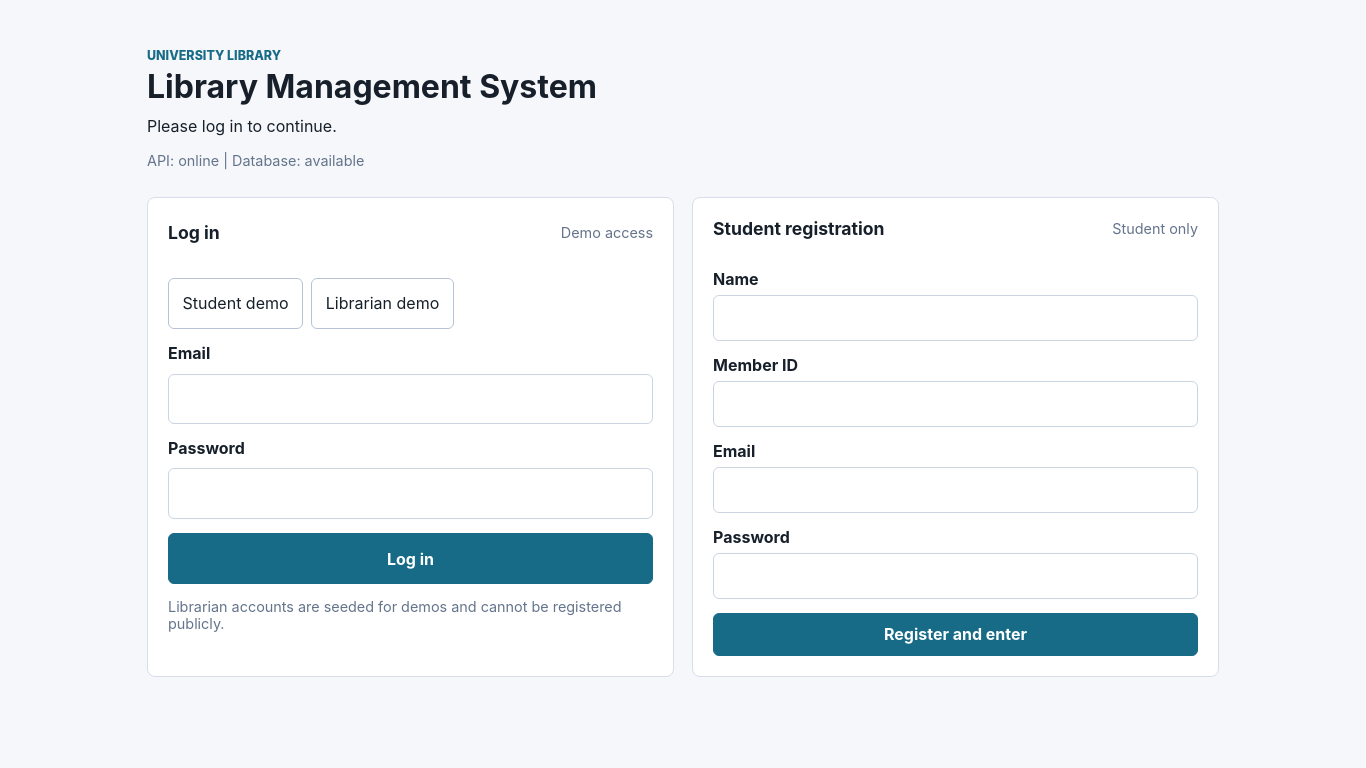
auth flow › quick-fills seeded librarian credentials and shows librarian navigation
Click the button "Librarian demo" at (382, 303), box [311, 278, 454, 329]
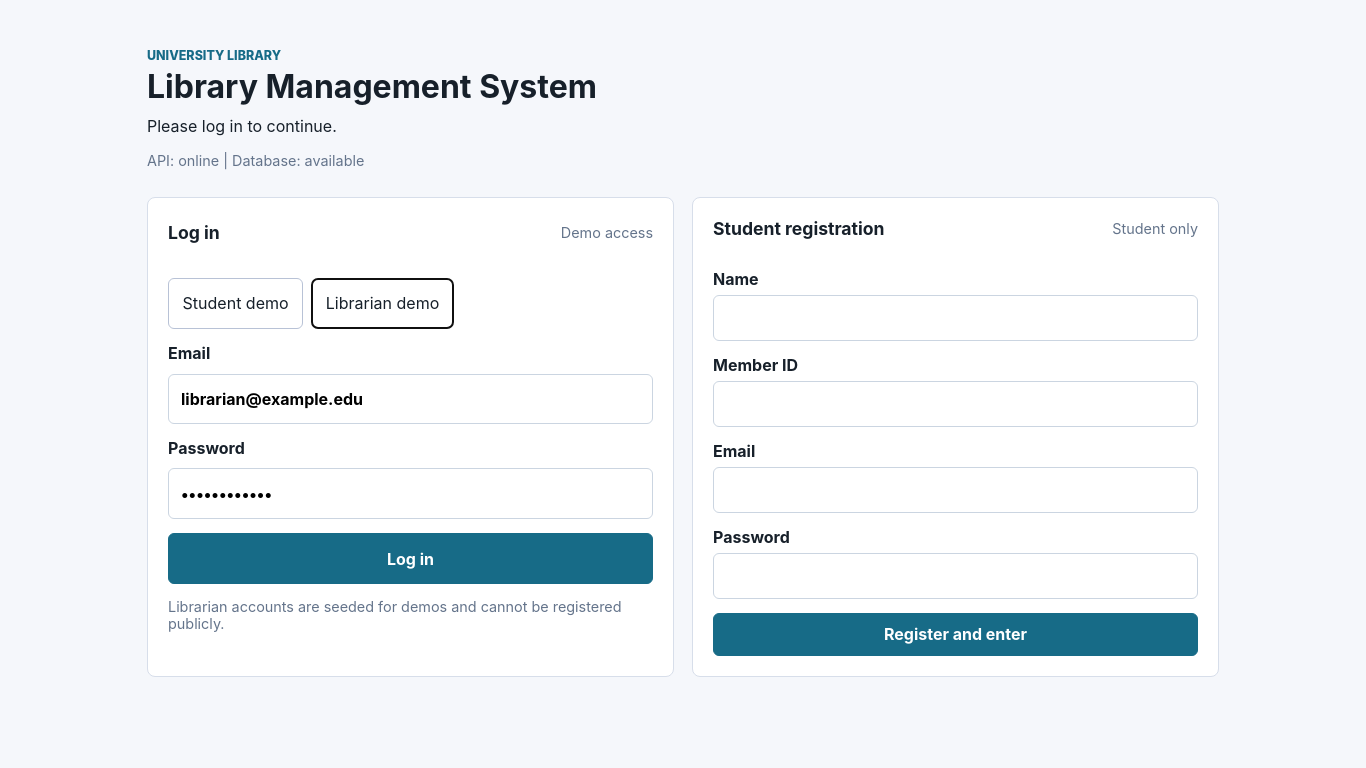
Click the button "Log in" at (410, 559), box [168, 533, 653, 584]
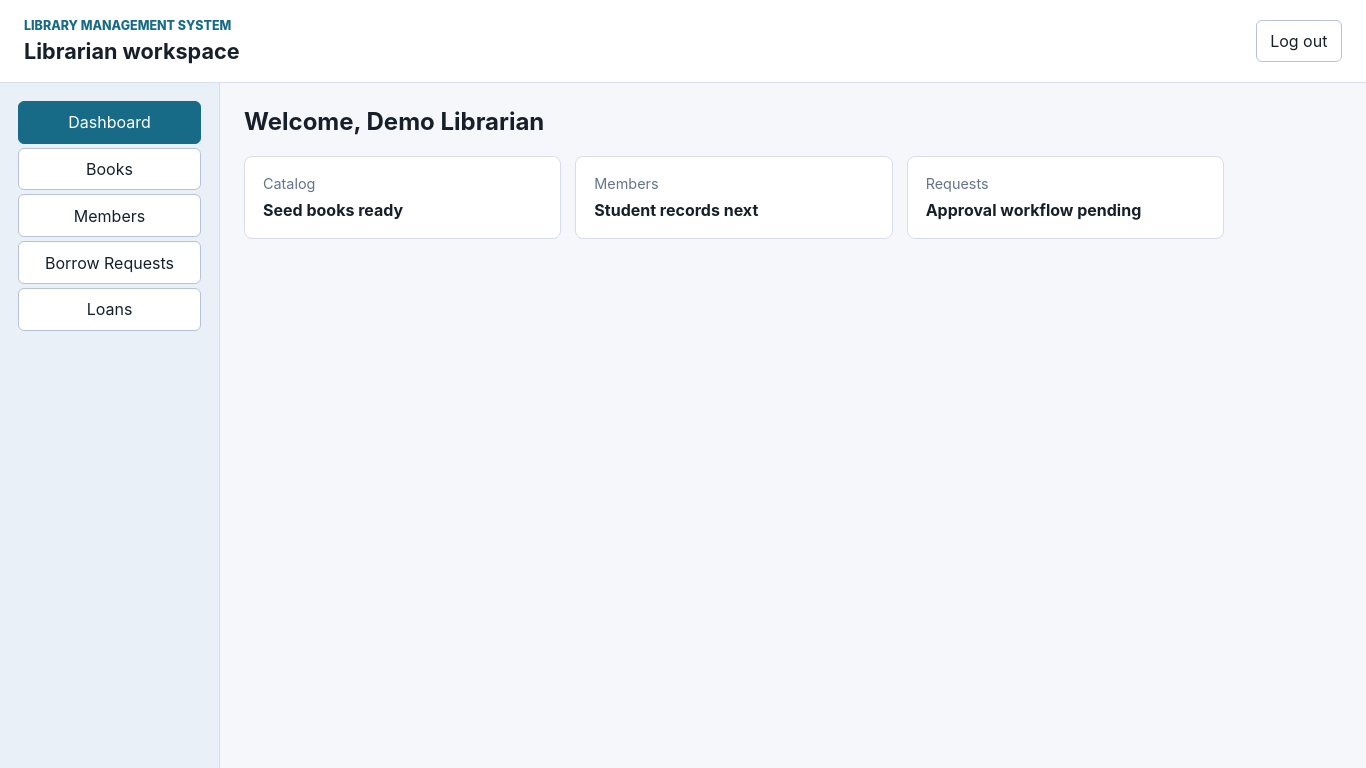
Expected: the heading "Librarian workspace" is shown, [24, 39, 240, 64]
Expected: the button "Books" is shown, [18, 148, 201, 190]
